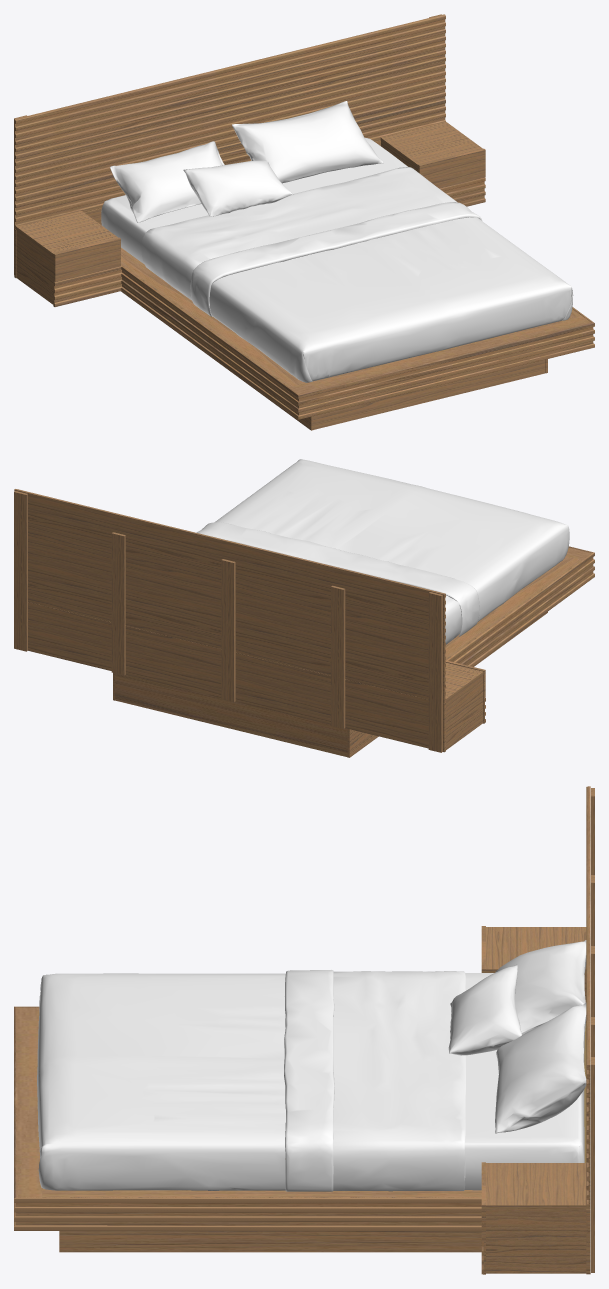
The picture shows the model from 3 angles, top to bottom: view 1: azimuth 30°, elevation 25°; view 2: azimuth 150°, elevation 25°; view 3: azimuth 270°, elevation 25°; orthographic projection. The views are drawn at different scales.
Parts seen in each view (by area): view 1: Box034, Cobertor, Box061_Carvalho2_0, poliform_onda_01_pillows_Colchao_0, object 21, object 20, Box061_Carvalho 01_0, Ripa 01_Carvalho2_0, Ripa 02_Carvalho2_0, Box061_Carvalho1_0; view 2: Box034, Cobertor, Box088_Carvalho1_0, Box061_Carvalho 01_0, Box030_Carvai_0, Box026, Box028_Carvai_0, Box027_Carvai_0, Box029_Carvai_0, object 21, Ripa 01_Carvalho2_0; view 3: Cobertor, Box034, object 21, poliform_onda_01_pillows_Colchao_0, Box061_Carvalho 01_0, object 20, Box061_Carvalho2_0, Box026, Ripa 01_Carvalho2_0.
Boxes of the visible parts, box(x1,y1,x2,y2) form: Box034: box(14, 14, 593, 430); Cobertor: box(190, 202, 573, 382); Box061_Carvalho2_0: box(15, 29, 594, 419); poliform_onda_01_pillows_Colchao_0: box(110, 101, 383, 222); object 21: box(141, 167, 459, 300); object 20: box(101, 137, 407, 263); Box061_Carvalho 01_0: box(121, 265, 593, 419); Ripa 01_Carvalho2_0: box(15, 15, 445, 123); Ripa 02_Carvalho2_0: box(15, 22, 445, 130); Box061_Carvalho1_0: box(54, 265, 121, 306); Box034: box(14, 489, 593, 757); Cobertor: box(196, 459, 569, 636); Box088_Carvalho1_0: box(115, 673, 347, 757); Box061_Carvalho 01_0: box(447, 552, 594, 666); Box030_Carvai_0: box(428, 592, 442, 752); Box026: box(14, 491, 27, 651); Box028_Carvai_0: box(221, 559, 235, 702); Box027_Carvai_0: box(111, 532, 125, 675); Box029_Carvai_0: box(331, 585, 345, 728); object 21: box(445, 595, 461, 644); Ripa 01_Carvalho2_0: box(16, 489, 445, 597); Cobertor: box(37, 970, 334, 1191); Box034: box(15, 786, 590, 1274); object 21: box(333, 971, 465, 1191); poliform_onda_01_pillows_Colchao_0: box(448, 940, 586, 1133); Box061_Carvalho 01_0: box(14, 1006, 481, 1231); object 20: box(464, 973, 584, 1190); Box061_Carvalho2_0: box(14, 1006, 588, 1274); Box026: box(591, 1057, 594, 1272); Ripa 01_Carvalho2_0: box(586, 786, 588, 1069).
Size of the model in its own units: 228 by 95.51 by 201.
6 materials, 5 textured.
